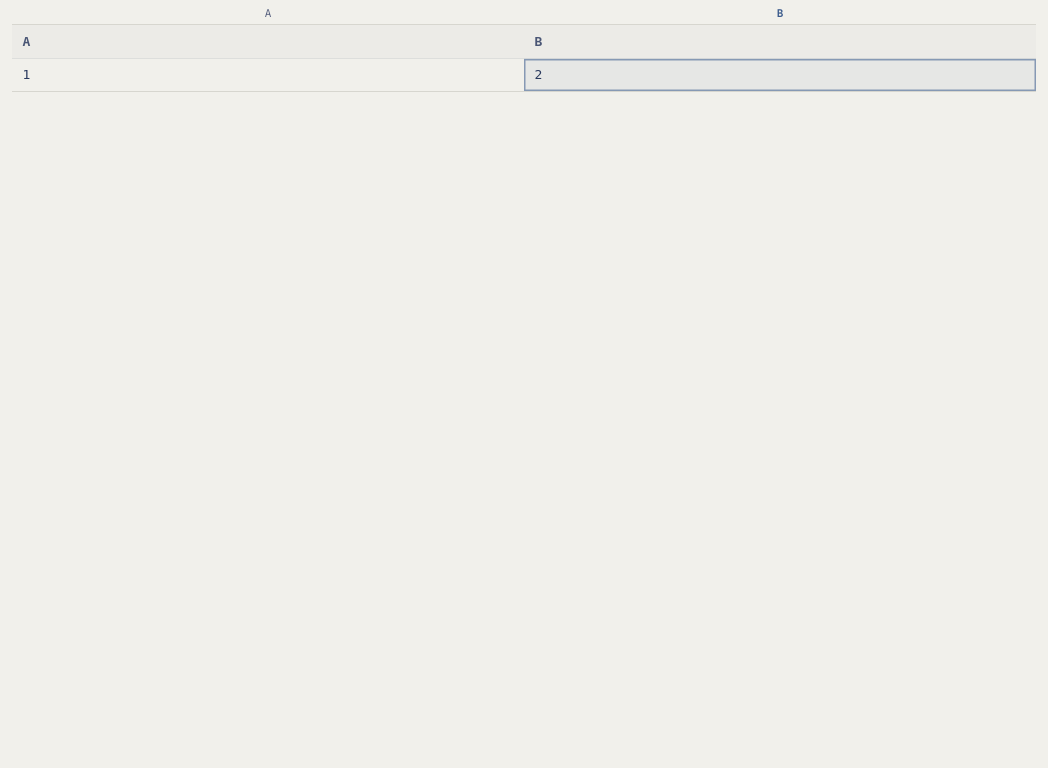
Scenario: tableDisplayExtension › shows row numbers and column letters while editing, and they open the menu
Check: the cell "2" is shown, box top-left (524, 58), bottom-right (1036, 92)
Click the button with class "cm-table-ruler-col" showing "A".
click(268, 13)  # box top-left (12, 5), bottom-right (524, 21)
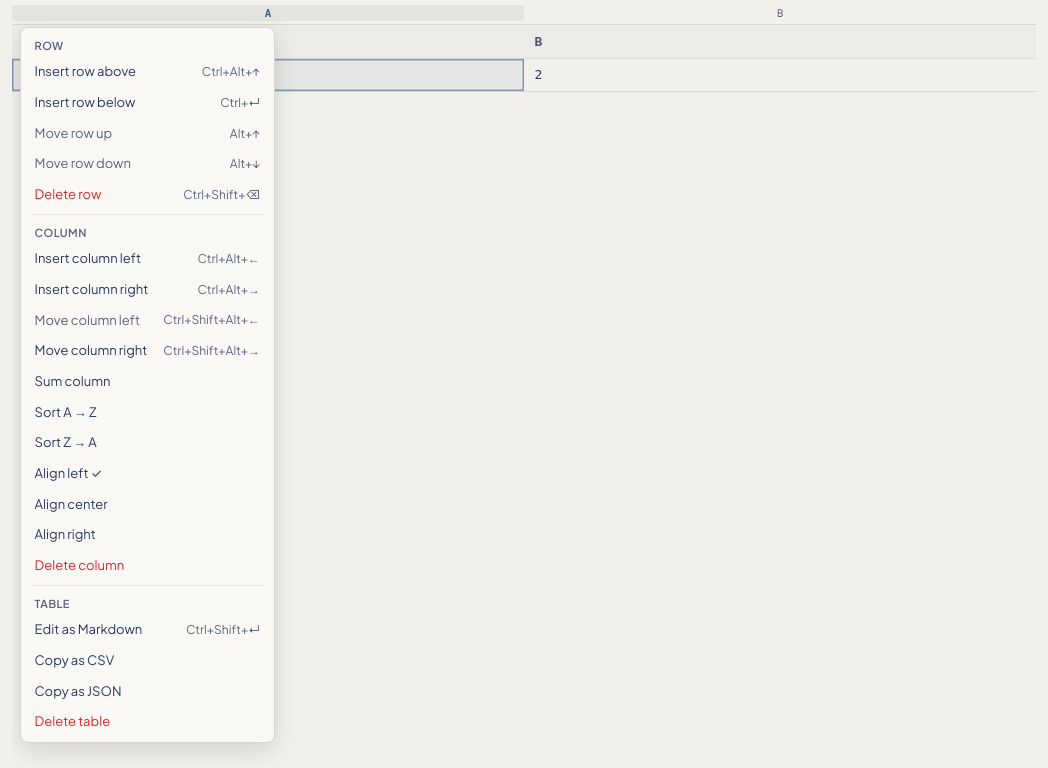
Check: the menu with class "cm-table-menu" shows "Insert column left", box top-left (25, 244), bottom-right (270, 274)
